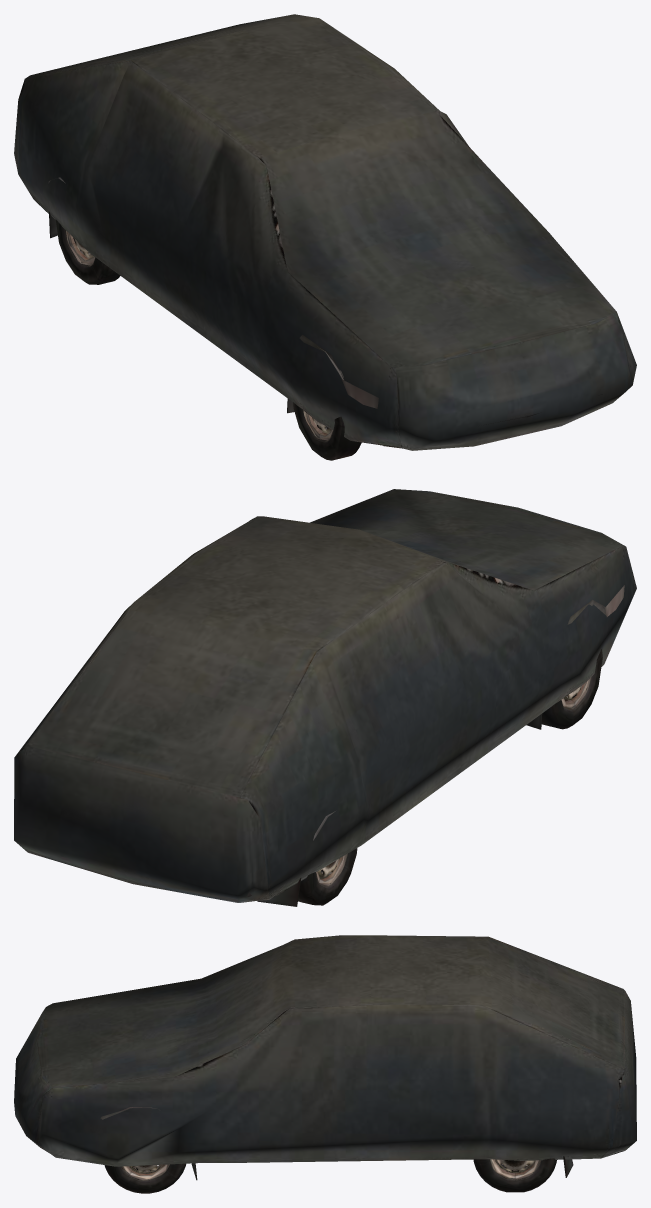
File: covered_car.glb
3 views of the same model, one above another, from view 1: azimuth 30°, elevation 25°; view 2: azimuth 150°, elevation 25°; view 3: azimuth 270°, elevation 25° (orthographic). The views are drawn at different scales.
Visible parts, largest first — view 1: covered_car, covered_car_wheel_02, covered_car_wheel_03; view 2: covered_car, covered_car_wheel_03, covered_car_wheel_02; view 3: covered_car, covered_car_wheel_04, covered_car_wheel_01.
Boxes of the visible parts, <box> form: covered_car: <box>14,14,636,450</box>; covered_car_wheel_02: <box>293,402,361,460</box>; covered_car_wheel_03: <box>55,219,120,284</box>; covered_car: <box>14,489,636,906</box>; covered_car_wheel_03: <box>298,848,357,905</box>; covered_car_wheel_02: <box>541,649,602,729</box>; covered_car: <box>14,935,636,1180</box>; covered_car_wheel_04: <box>473,1158,556,1192</box>; covered_car_wheel_01: <box>104,1163,186,1193</box>.
Bounding box in the file's own units: 1.79 × 1.41 × 4.34.
2 materials, 2 textured.
